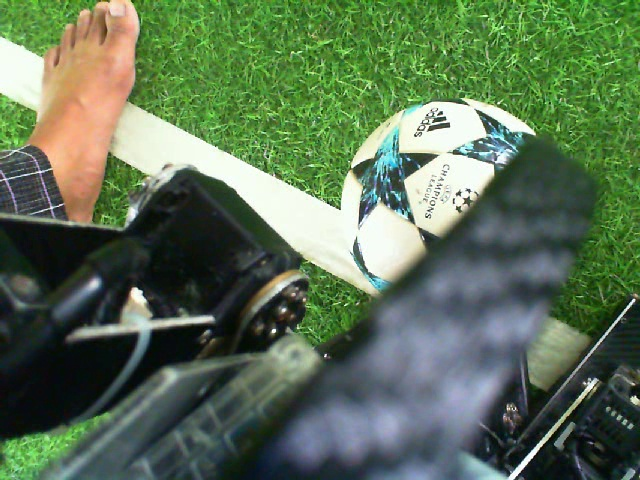ball: (339, 95, 539, 302)
